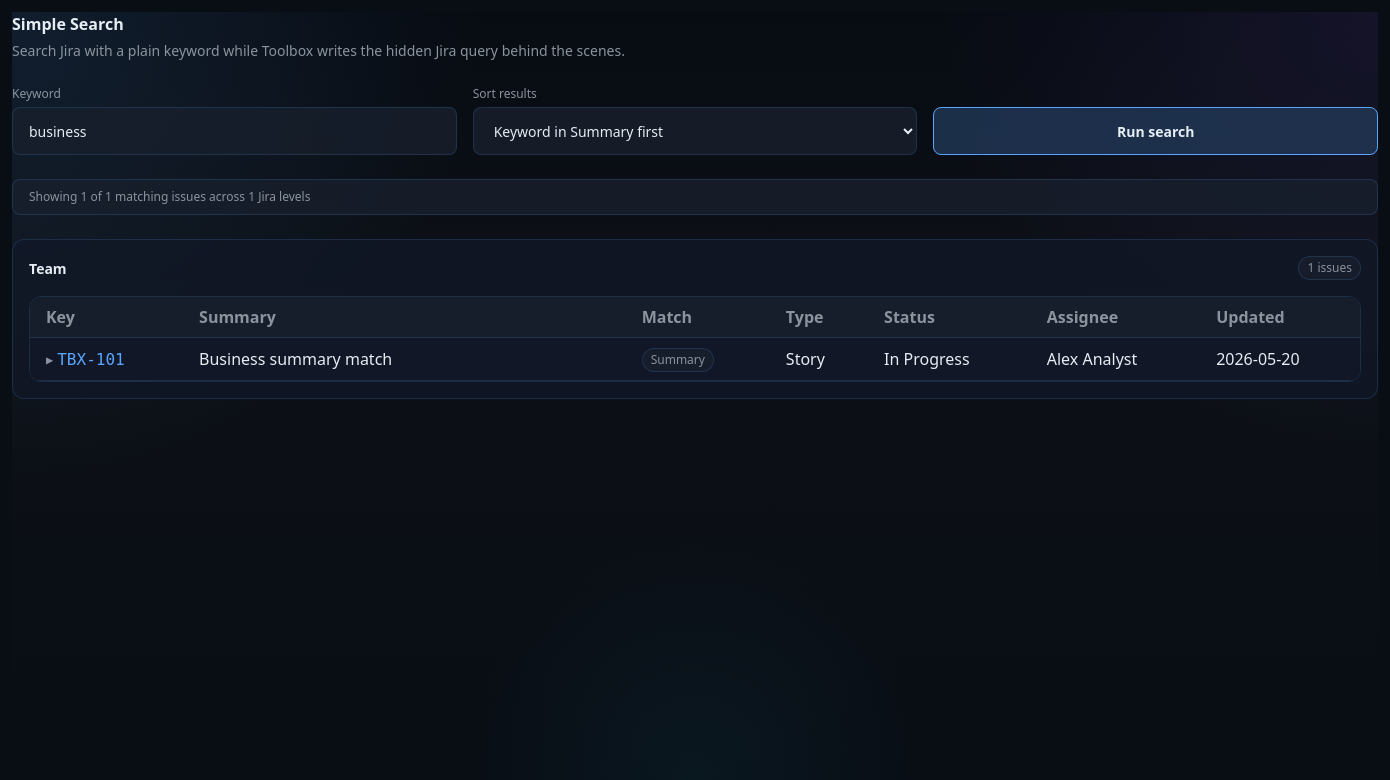
Test: SimpleSearchTab › expands a child record to show its description
The width and height of the screenshot is (1390, 780).
Click the button with aria-label "Toggle details for TBX-101" at (85, 360), box [46,348,125,372]
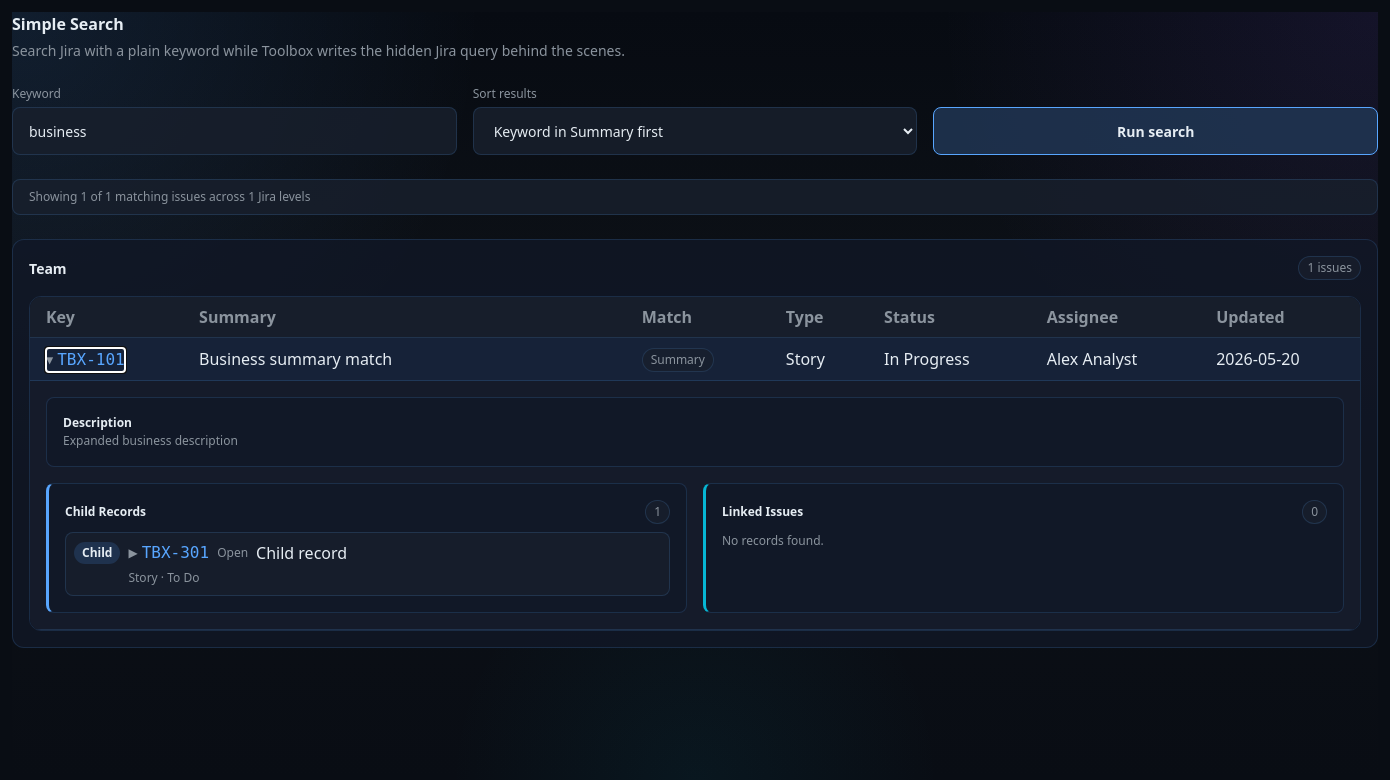
Click the button with aria-label "Toggle description for TBX-301" at (169, 553), box [128,541,209,565]
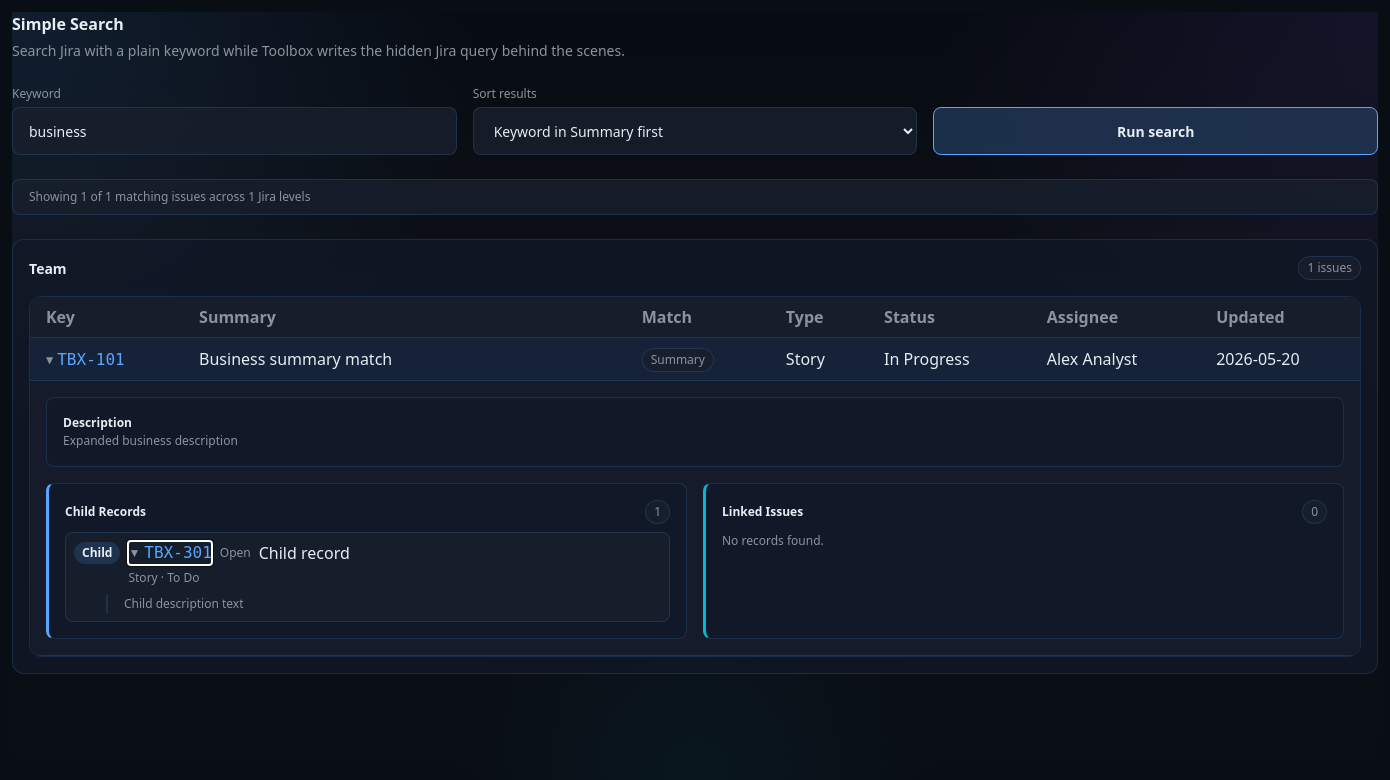
Expected: the text "Child description text" is shown, [124,595,244,612]
